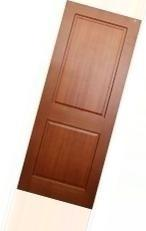door: (14, 2, 145, 209)
